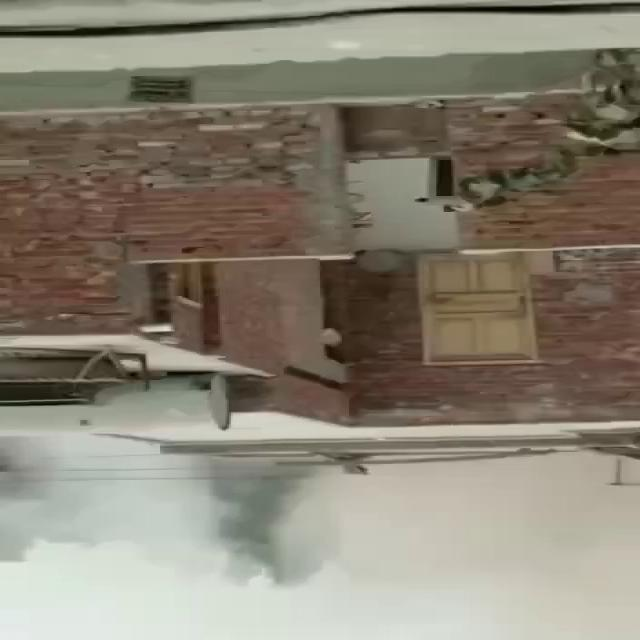Smoke: (0, 432, 342, 585)
